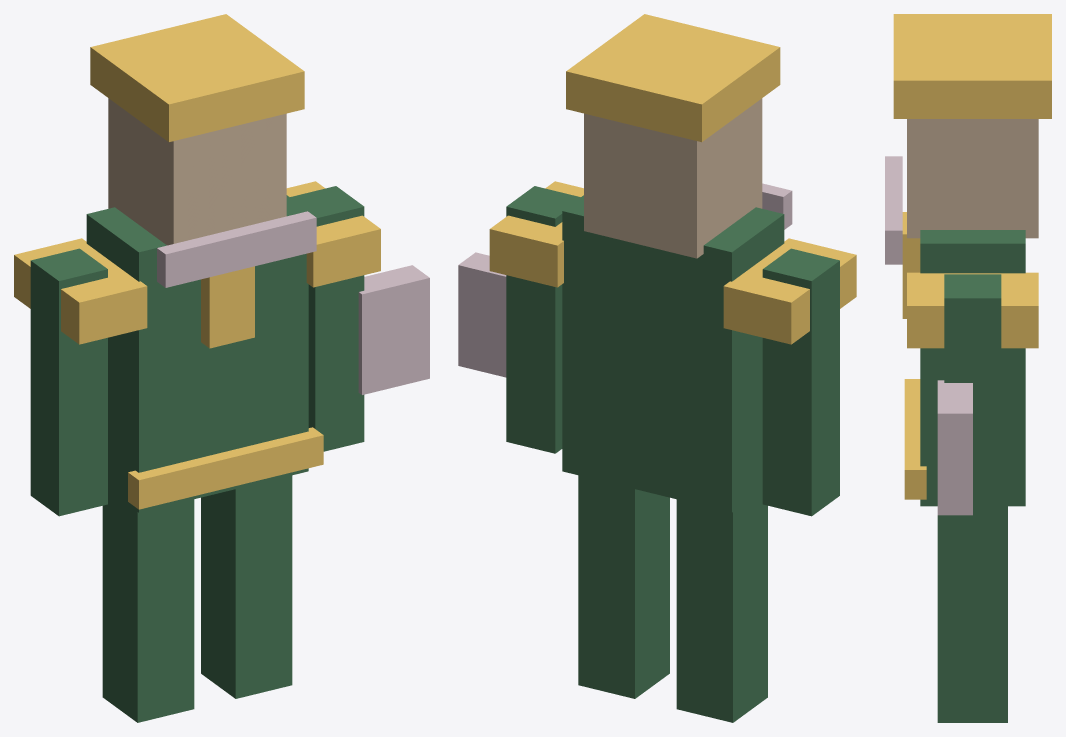
Rendered from 07_asha_trenchmark_diver_at_silent.glb.
3 views of the same model, side by side, from view 1: azimuth 30°, elevation 25°; view 2: azimuth 150°, elevation 25°; view 3: azimuth 270°, elevation 25° (orthographic).
Parts seen in each view (by area): view 1: Asha Trenchmark, Diver at Silent; view 2: Asha Trenchmark, Diver at Silent; view 3: Asha Trenchmark, Diver at Silent.
Part boxes in pixels (<box>): Asha Trenchmark, Diver at Silent: <box>14,14,429,722</box>; Asha Trenchmark, Diver at Silent: <box>458,14,856,722</box>; Asha Trenchmark, Diver at Silent: <box>885,14,1051,722</box>.
Size of the model in its own units: 1.03 by 1.69 by 0.4.
